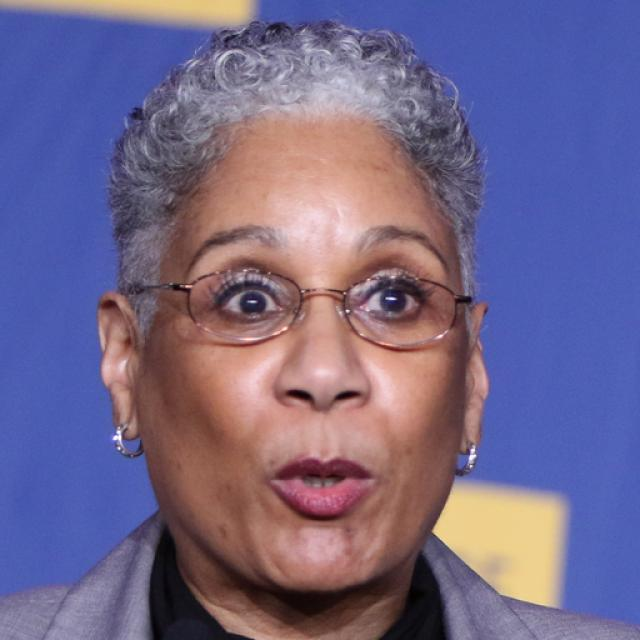surprise: (140, 106, 470, 593)
